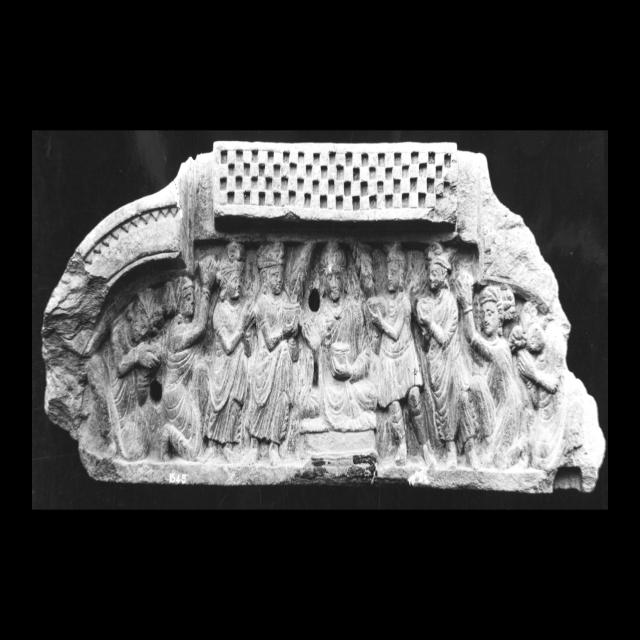buddha-sitting: (294, 242, 378, 433)
